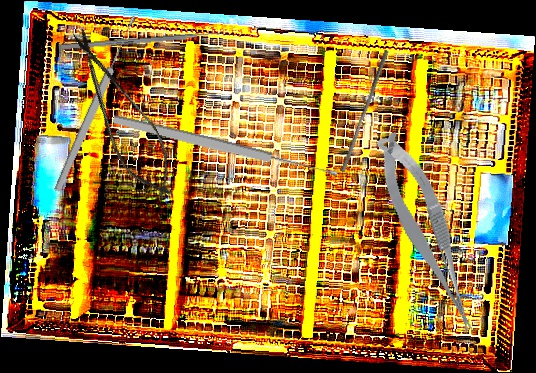Micro Scissor: (55, 20, 188, 209), (369, 125, 483, 342)
Pusher: (339, 48, 390, 174), (61, 29, 230, 51)
Surgical Spoon: (51, 13, 141, 194), (111, 112, 339, 182)
